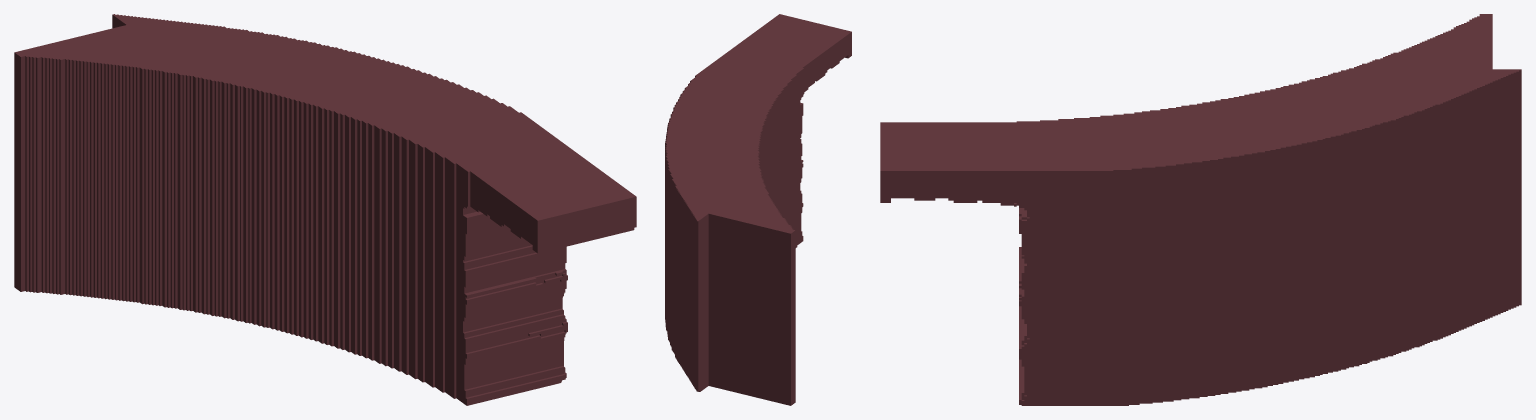
The model's file is base_with_flag_elements-16.obj.
The picture shows the model from 3 angles, left to right: view 1: azimuth 30°, elevation 25°; view 2: azimuth 150°, elevation 25°; view 3: azimuth 270°, elevation 25°; orthographic projection. The views are drawn at different scales.
Size of the model in its own units: 14.2 by 10 by 24.5.
1 material, 1 textured.
